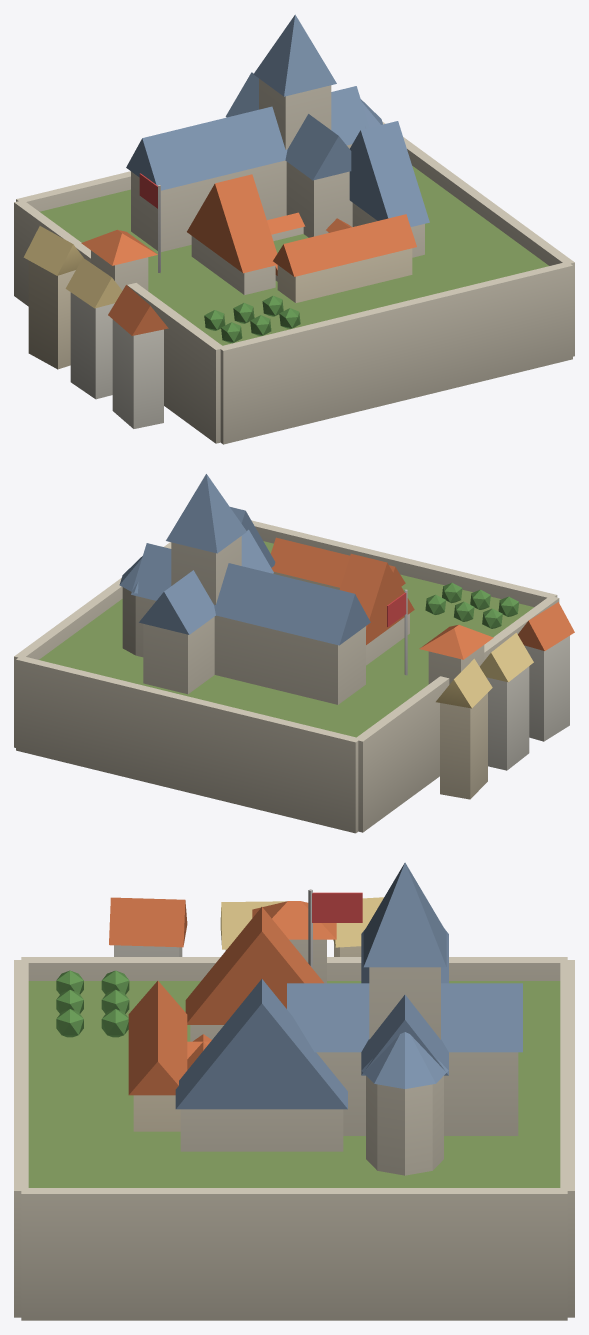
File: abbey_west_a.glb
3 renders of one model, top to bottom at view 1: azimuth 30°, elevation 25°; view 2: azimuth 150°, elevation 25°; view 3: azimuth 270°, elevation 25°, orthographic. The views are drawn at different scales.
Parts seen in each view (by area): view 1: abbey_west_a; view 2: abbey_west_a; view 3: abbey_west_a.
Boxes of the visible parts, x1,y1,x2,y2 form: abbey_west_a: [14, 14, 574, 444]; abbey_west_a: [14, 474, 574, 833]; abbey_west_a: [14, 862, 574, 1320].
Size of the model in its own units: 1.97 by 1.25 by 1.73.
